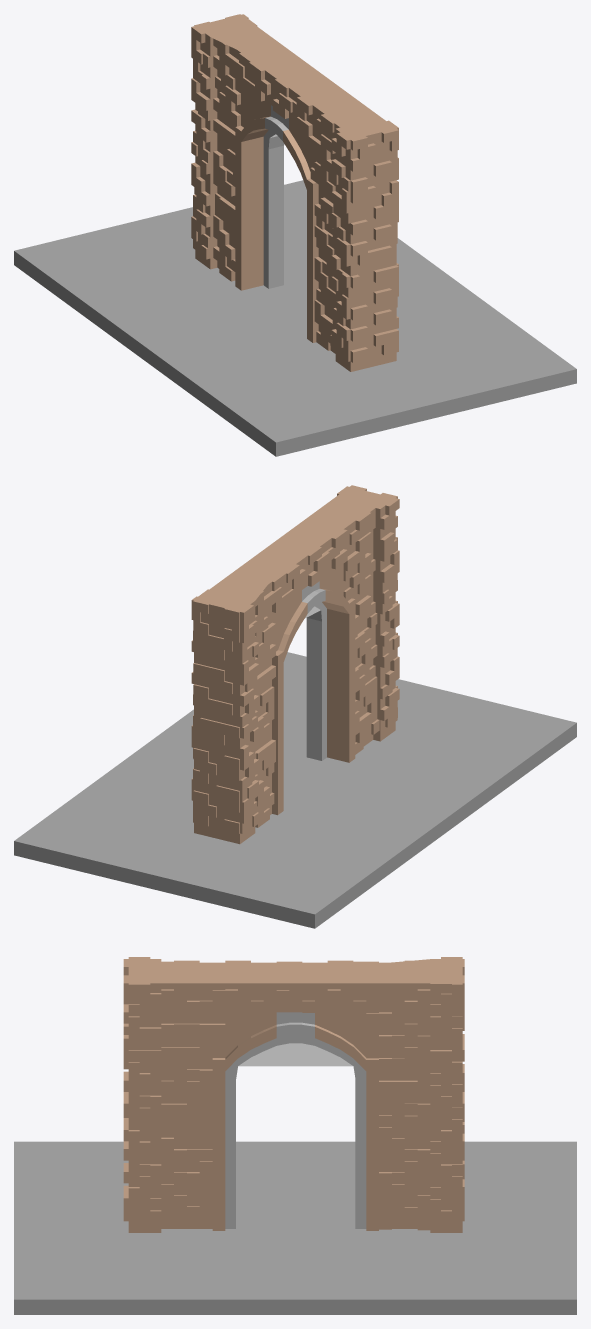
The model's file is ivy_gate.fbx.
3 renders of one model, top to bottom at view 1: azimuth 30°, elevation 25°; view 2: azimuth 150°, elevation 25°; view 3: azimuth 270°, elevation 25°, orthographic. The views are drawn at different scales.
Visible parts, largest first — view 1: pCube59, pCube58; view 2: pCube59, pCube58; view 3: pCube59, pCube58.
Boxes of the visible parts, box(x1,y1,x2,y2) form: pCube59: box(14, 180, 576, 456); pCube58: box(191, 14, 398, 371); pCube59: box(14, 652, 576, 928); pCube58: box(191, 485, 399, 844); pCube59: box(14, 1141, 576, 1314); pCube58: box(123, 957, 464, 1232).
Size of the model in its own units: 17.25 by 13.52 by 26.01.
